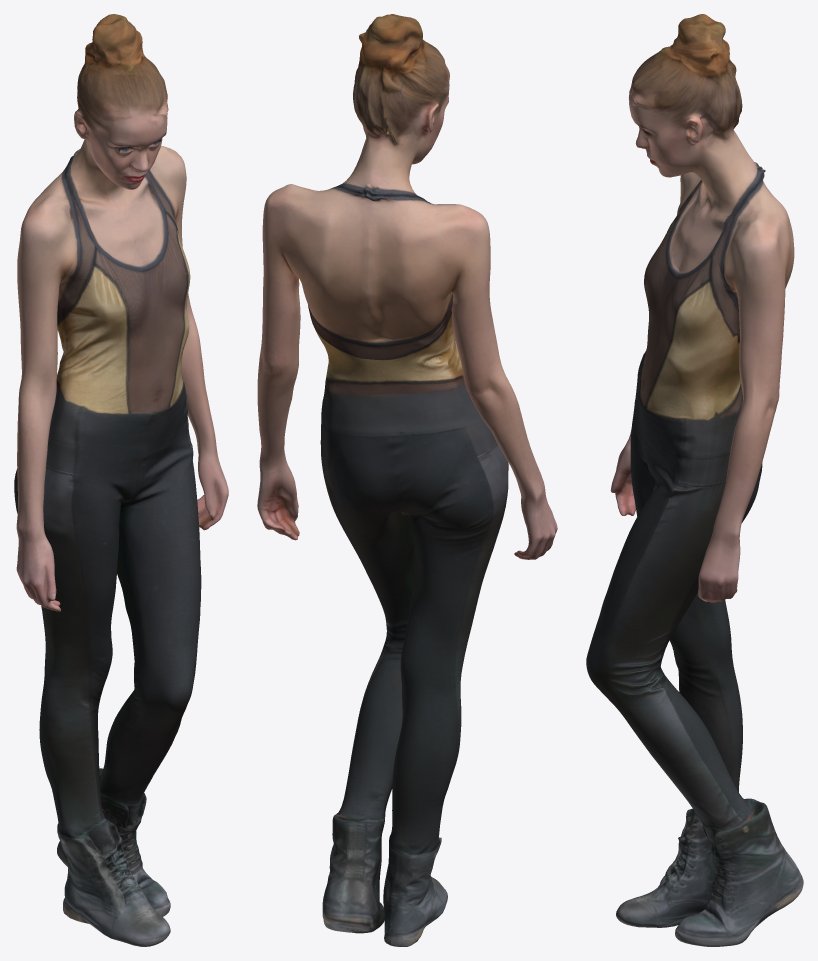
The model's file is Girl in Golden Swimsuit Shiny Legging and Boots 1.fbx.
3 views of the same model, side by side, from view 1: azimuth 30°, elevation 25°; view 2: azimuth 150°, elevation 25°; view 3: azimuth 270°, elevation 25° (orthographic).
Parts seen in each view (by area): view 1: Girl in Golden Swimsuit Shiny Legging and Boots.Shape; view 2: Girl in Golden Swimsuit Shiny Legging and Boots.Shape; view 3: Girl in Golden Swimsuit Shiny Legging and Boots.Shape.
Part boxes in pixels (x1,y1,x2,y2): Girl in Golden Swimsuit Shiny Legging and Boots.Shape: (14,14,228,946); Girl in Golden Swimsuit Shiny Legging and Boots.Shape: (257,14,557,946); Girl in Golden Swimsuit Shiny Legging and Boots.Shape: (586,14,803,946).
Size of the model in its own units: 48.33 by 170 by 37.02.
1 material, 1 textured.
